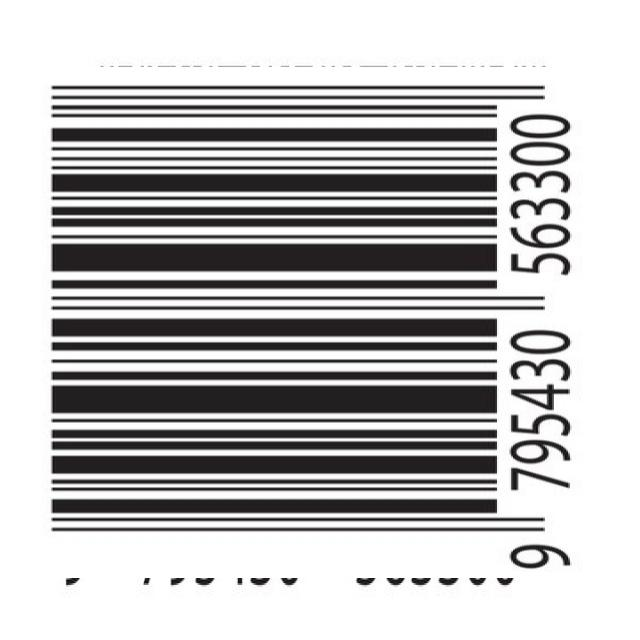Barkod: (44, 57, 574, 588)
